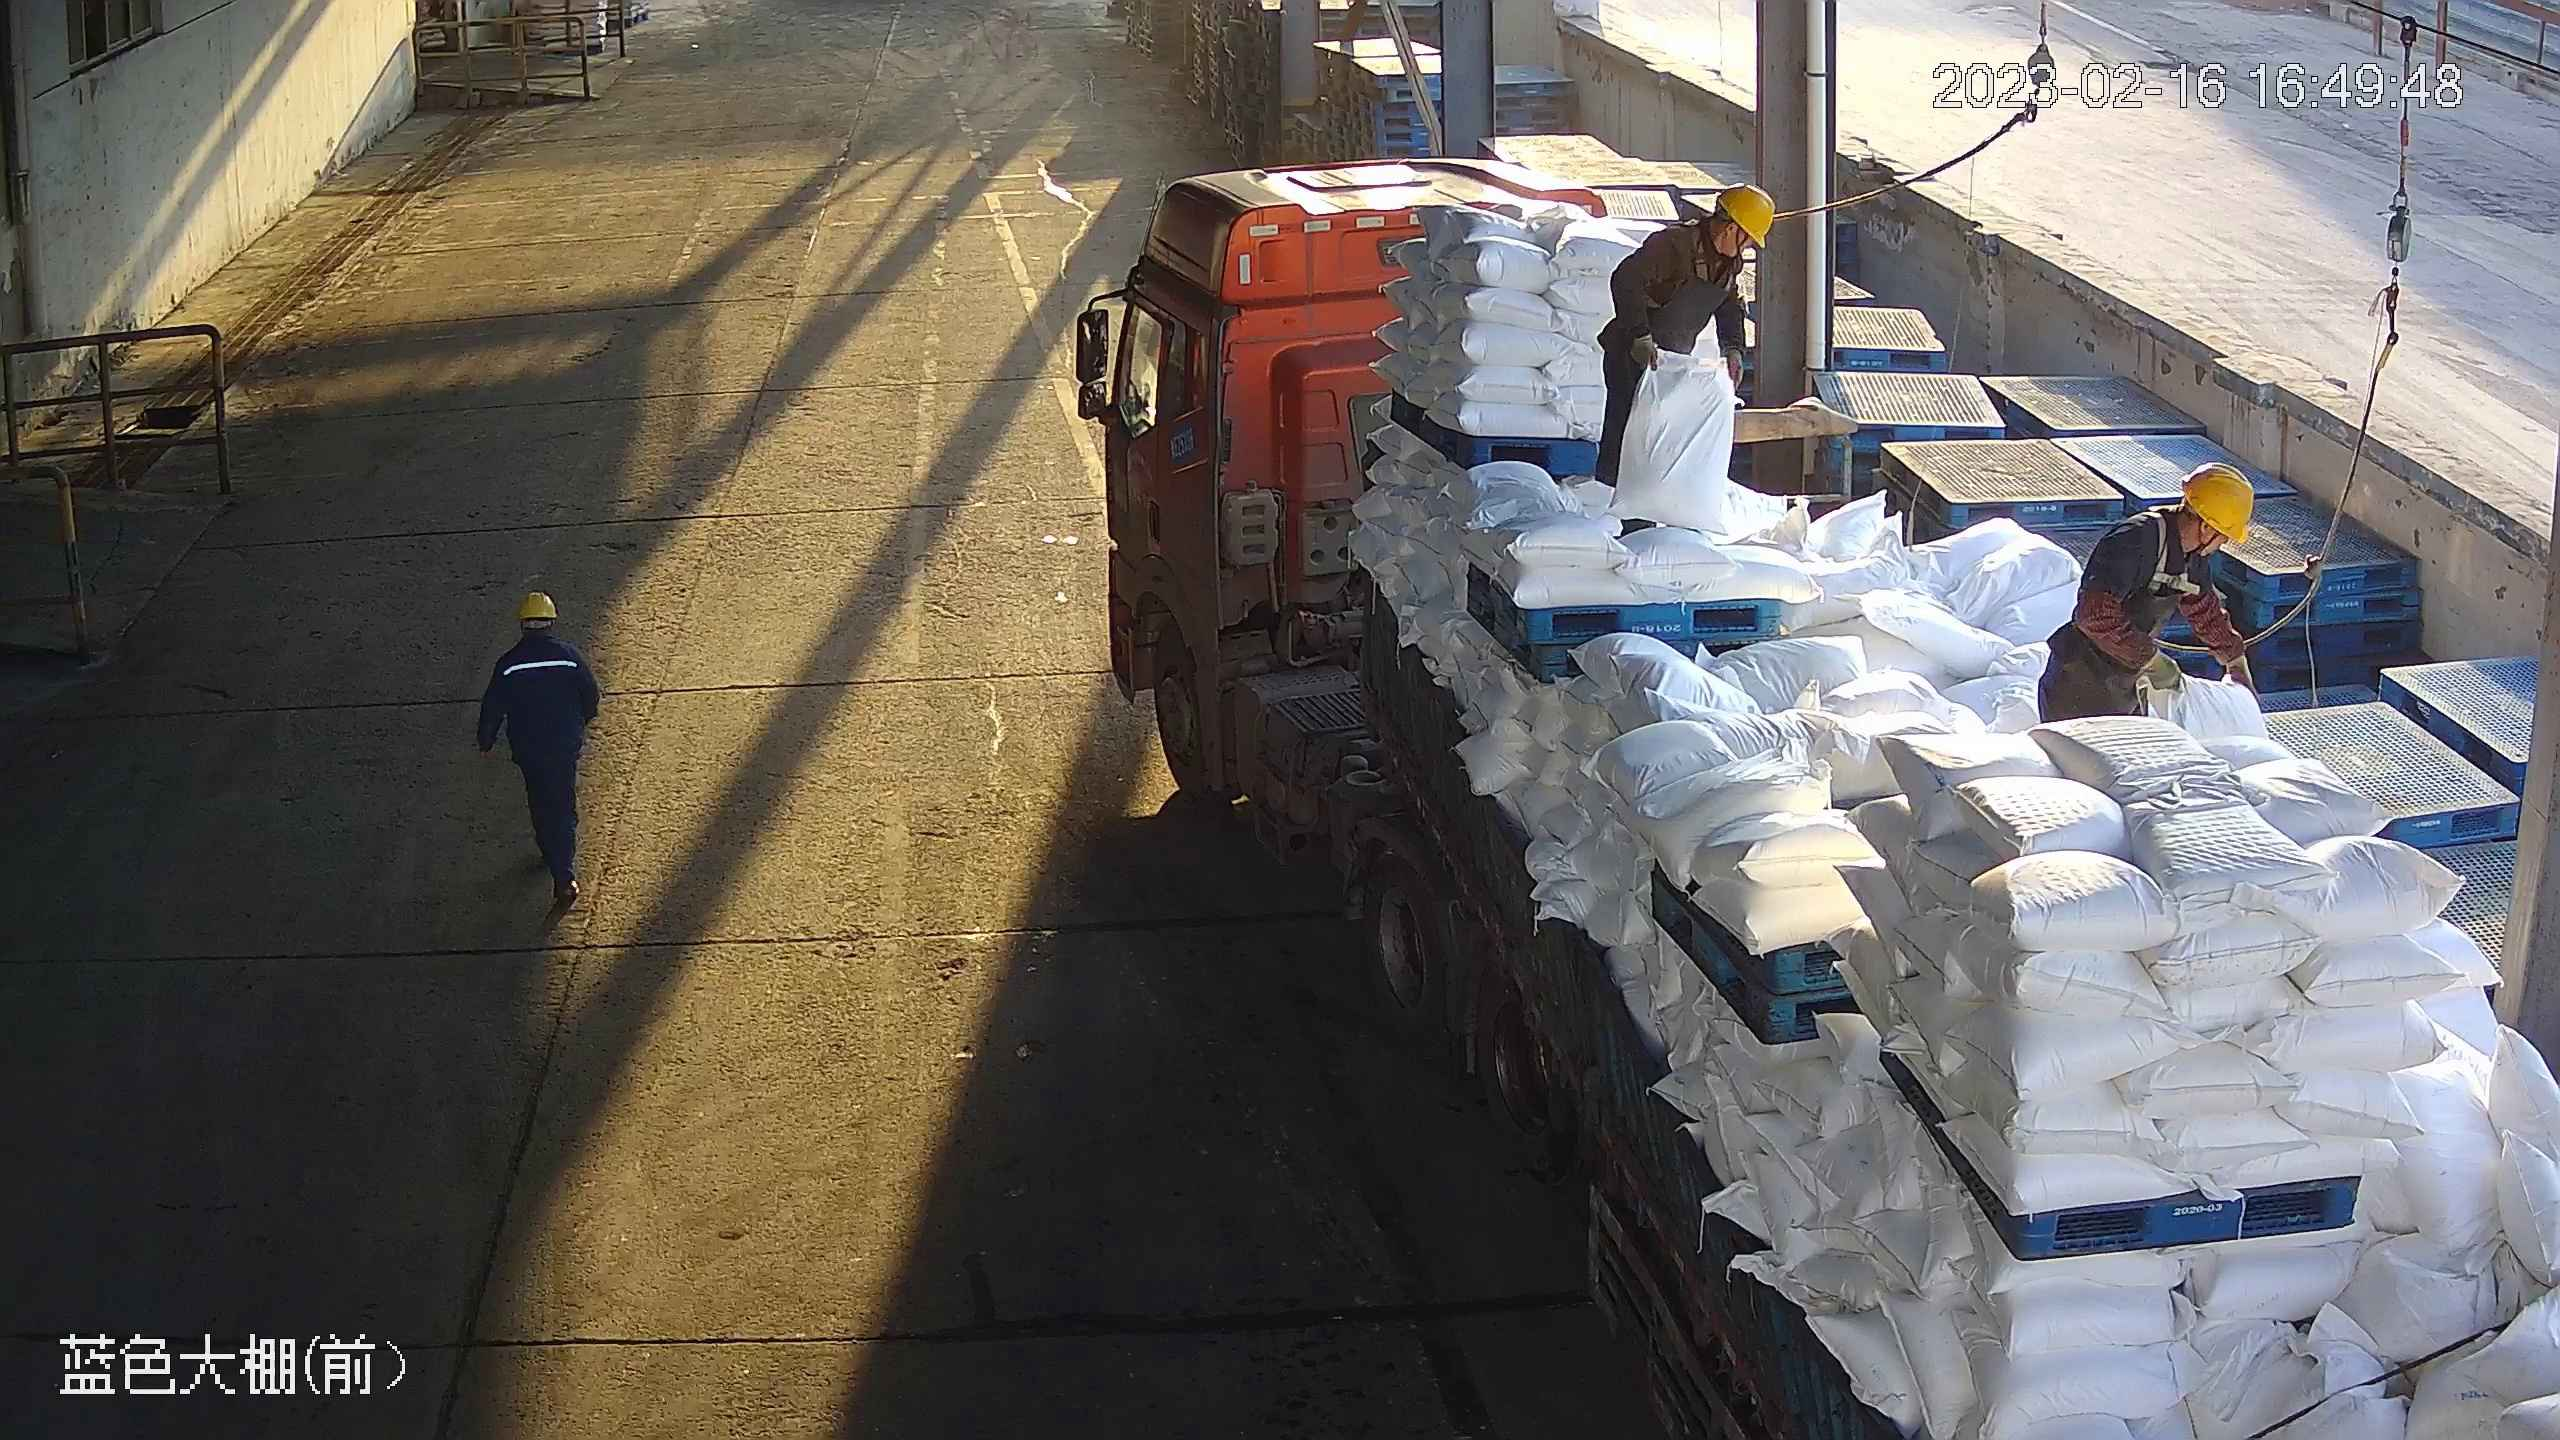belt: (2141, 510, 2201, 603), (1685, 219, 1737, 290)
head: (2091, 463, 2256, 571), (1643, 185, 1776, 269), (490, 592, 588, 681)
helmet: (2179, 462, 2255, 545), (1714, 184, 1777, 251), (514, 590, 560, 621)
people: (2036, 462, 2261, 725), (1596, 184, 1777, 490), (476, 591, 600, 901)
truck: (1072, 157, 2560, 1440)
